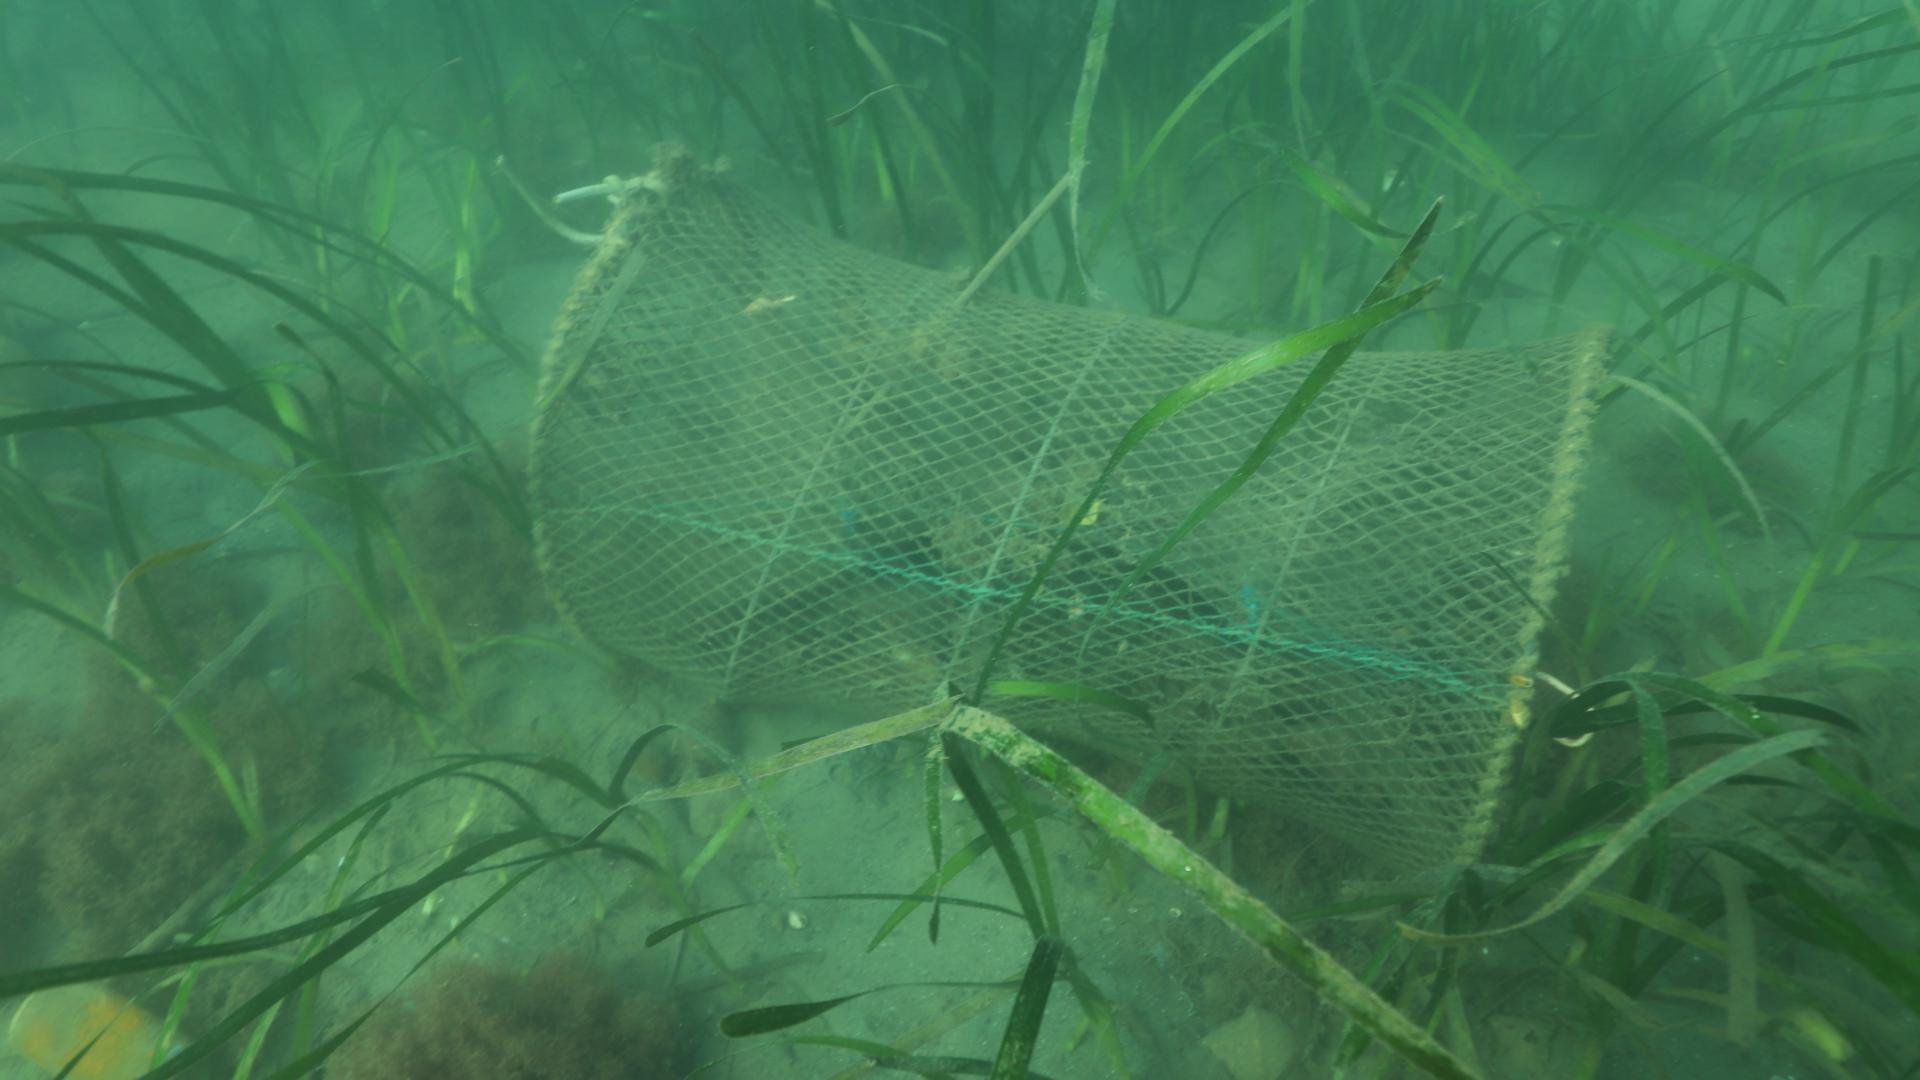spring fish trap: (522, 145, 1606, 934)
